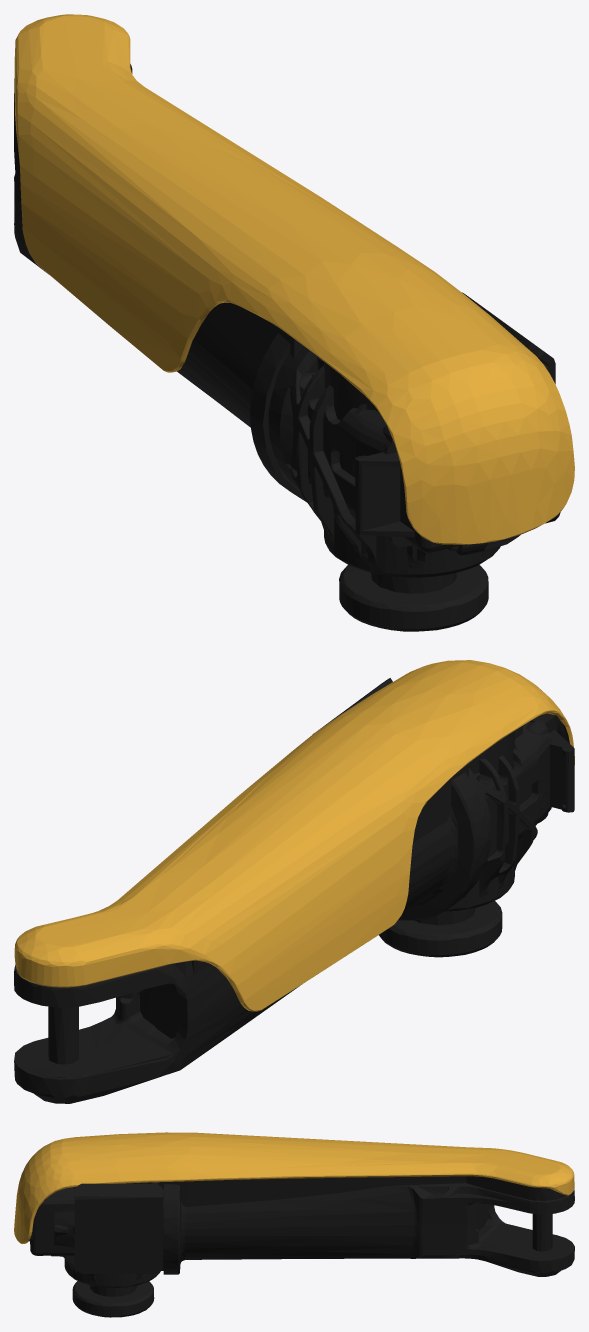
File: rear_left_upper_leg.obj
3 views of the same model, one above another, from view 1: azimuth 30°, elevation 25°; view 2: azimuth 150°, elevation 25°; view 3: azimuth 270°, elevation 25° (orthographic). The views are drawn at different scales.
Parts seen in each view (by area): view 1: _2-042137-001-A00_TOP_LEVEL_DEFEATURED_-_NOT_FOR_PRODUCTION_012; view 2: _2-042137-001-A00_TOP_LEVEL_DEFEATURED_-_NOT_FOR_PRODUCTION_012; view 3: _2-042137-001-A00_TOP_LEVEL_DEFEATURED_-_NOT_FOR_PRODUCTION_012.
Part boxes in pixels (<box>): _2-042137-001-A00_TOP_LEVEL_DEFEATURED_-_NOT_FOR_PRODUCTION_012: <box>14,14,574,631</box>; _2-042137-001-A00_TOP_LEVEL_DEFEATURED_-_NOT_FOR_PRODUCTION_012: <box>14,660,574,1103</box>; _2-042137-001-A00_TOP_LEVEL_DEFEATURED_-_NOT_FOR_PRODUCTION_012: <box>14,1132,574,1317</box>.
Size of the model in its own units: 0.1013 by 0.1322 by 0.4185.
